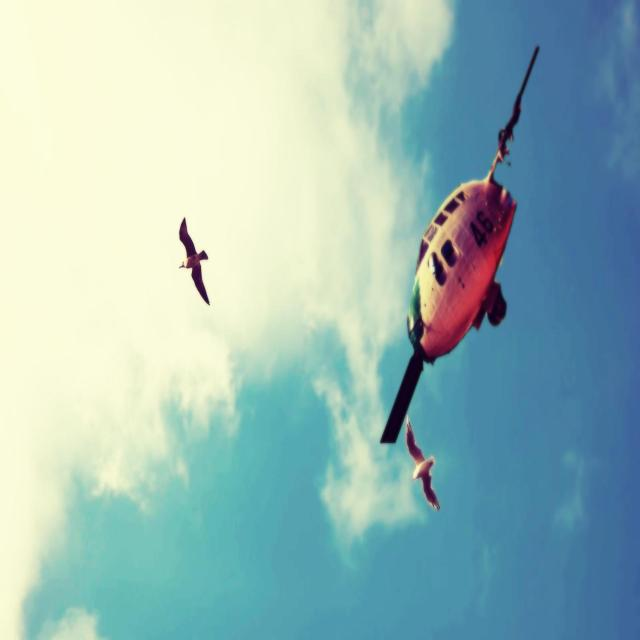airplane: (379, 44, 540, 444)
